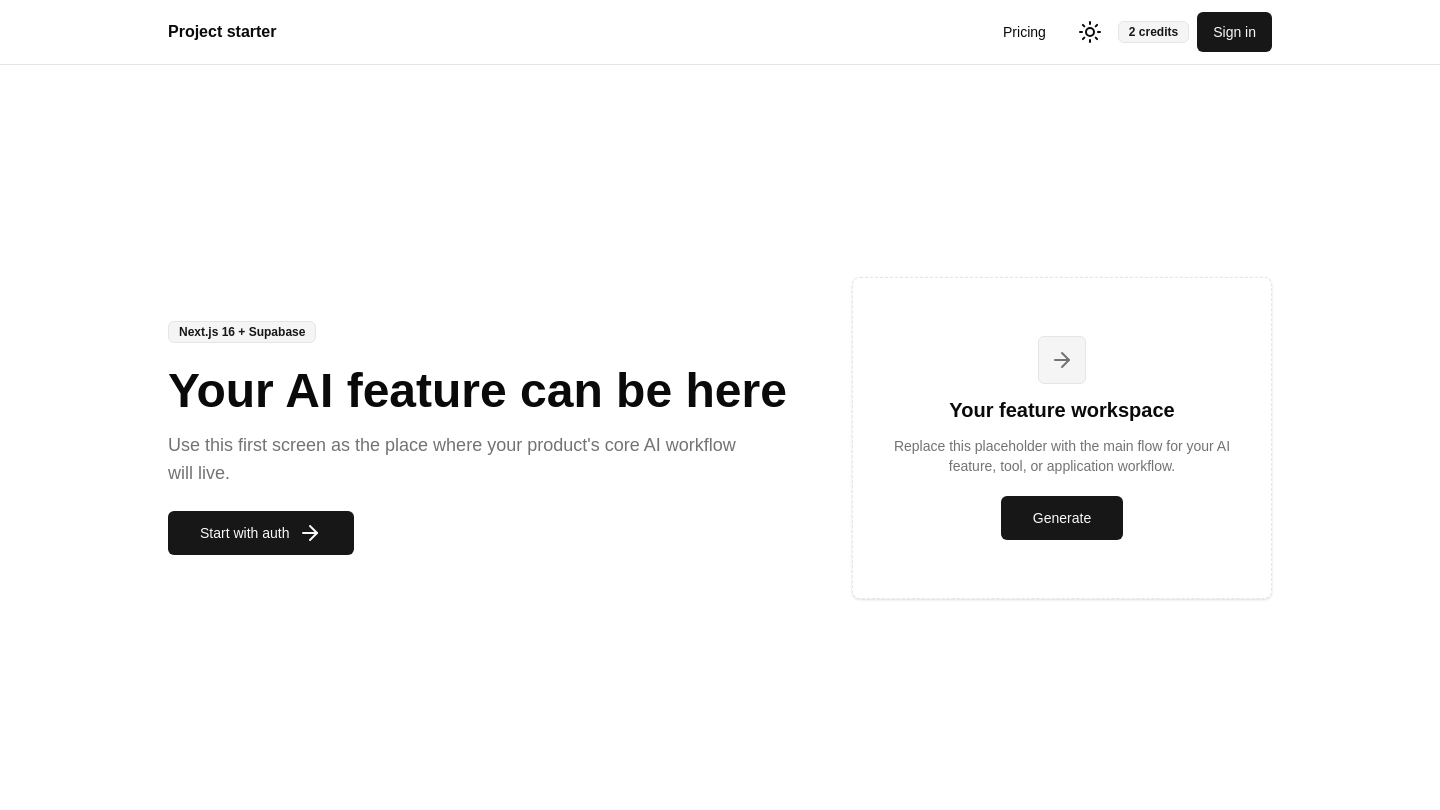
Scenario: HomeView › updates the guest credit counter and upgrade CTA after free credits end
The image size is (1440, 810).
Click the button "Generate": click(1062, 518) [1001, 496, 1123, 540]
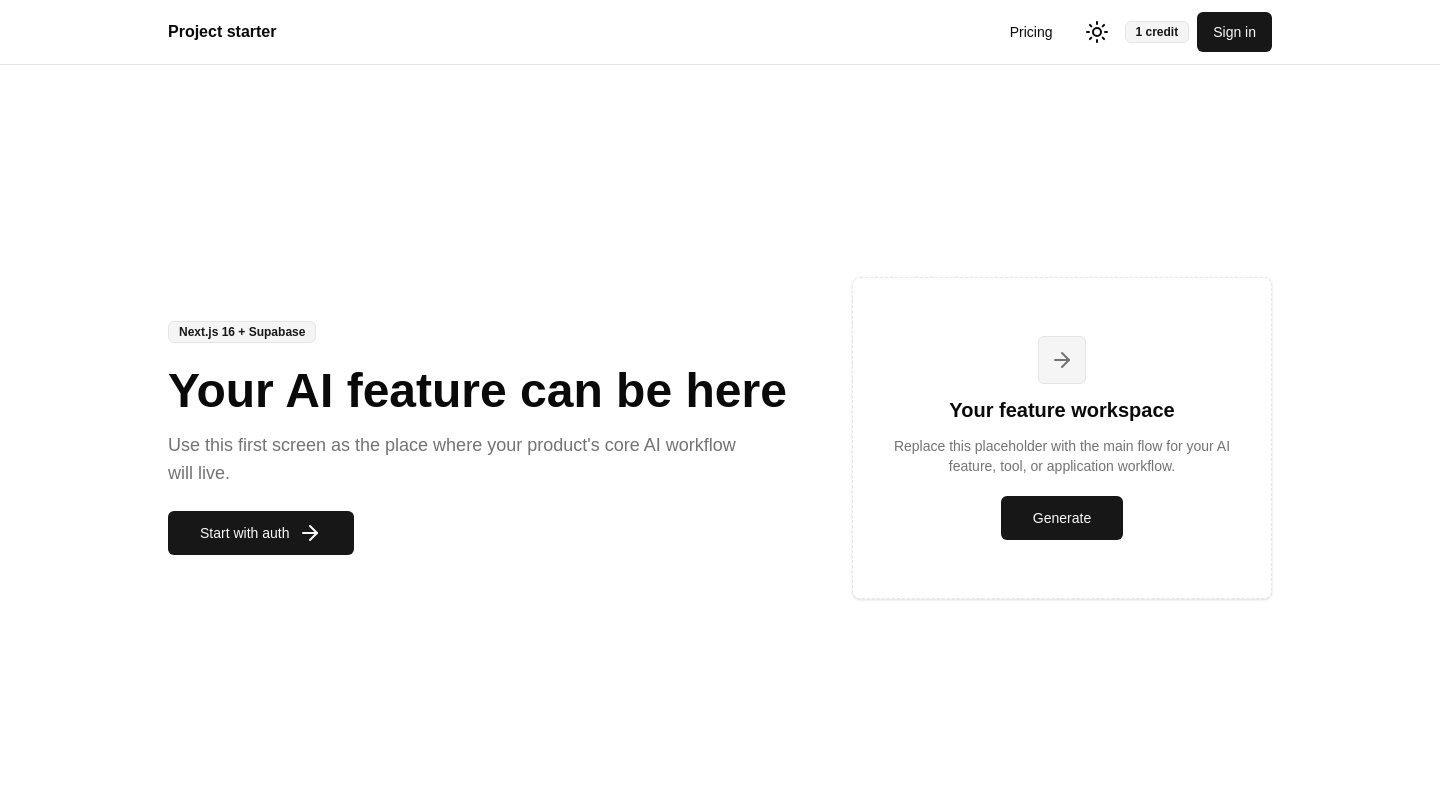
Expected: the text labelled "1 credit" is shown, [1124, 21, 1189, 43]
Click the button "Generate": click(1062, 518) [1001, 496, 1123, 540]
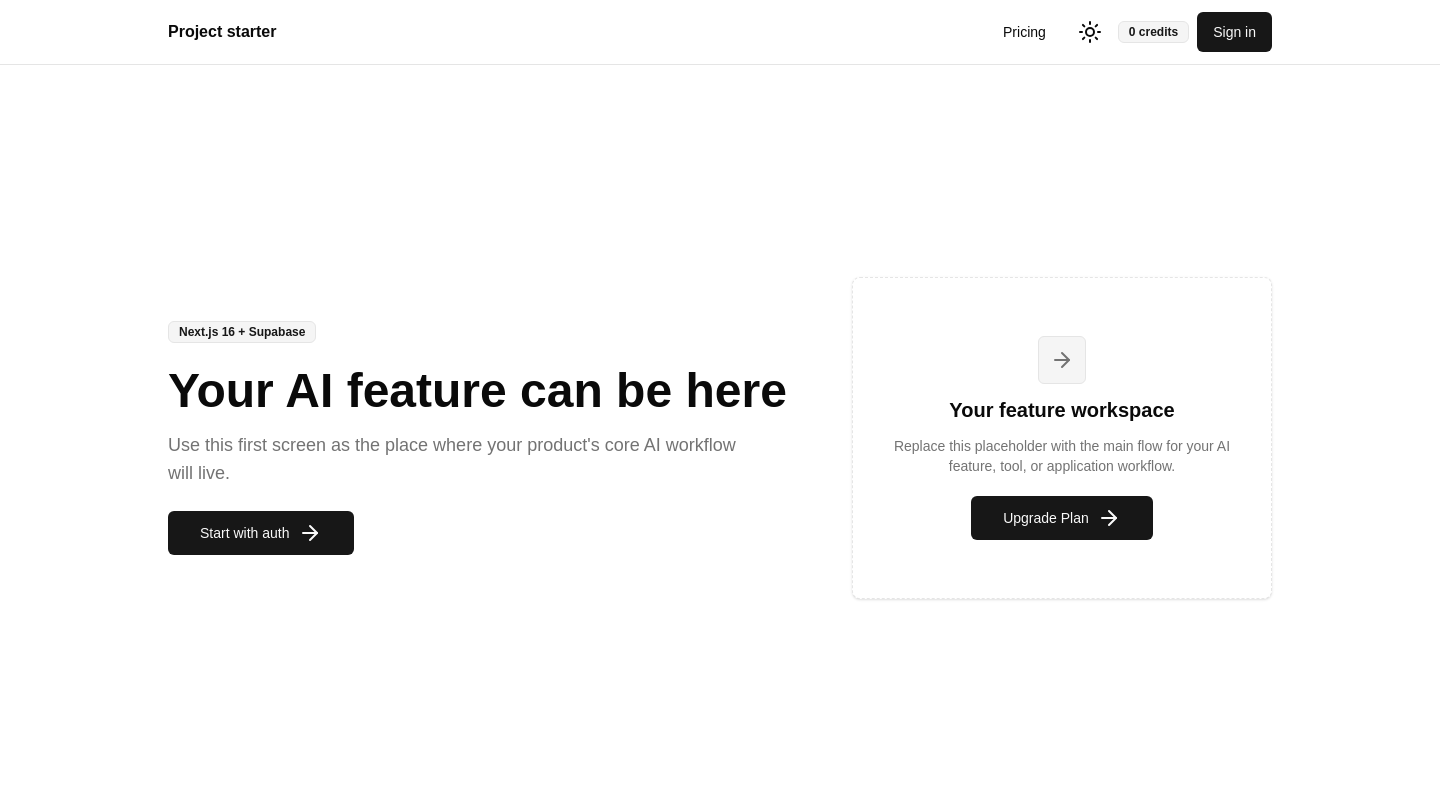
Expected: the text labelled "0 credits" is shown, [1118, 21, 1189, 43]
